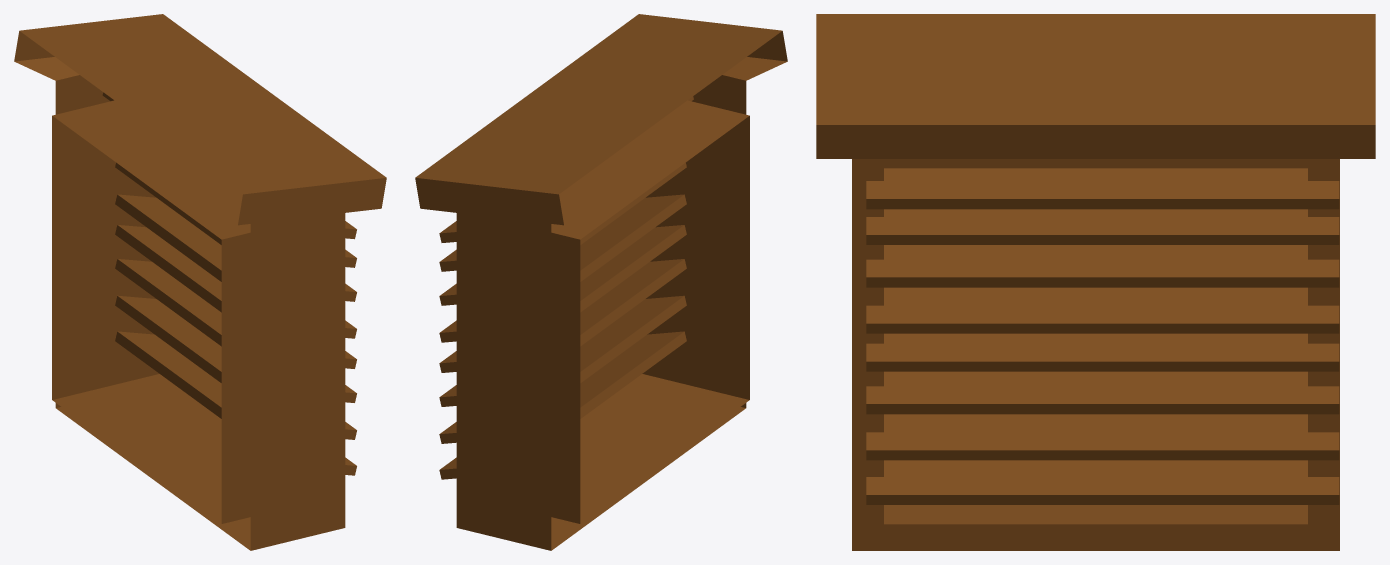
The model's file is saunaLight.fbx.
3 views of the same model, side by side, from view 1: azimuth 30°, elevation 25°; view 2: azimuth 150°, elevation 25°; view 3: azimuth 270°, elevation 25° (orthographic). The views are drawn at different scales.
Parts seen in each view (by area): view 1: saunaLamppu; view 2: saunaLamppu; view 3: saunaLamppu.
Boxes of the visible parts, x1,y1,x2,y2 form: saunaLamppu: (14,14,386,550); saunaLamppu: (415,14,787,550); saunaLamppu: (816,14,1375,550).
Bounding box in the file's own units: 22.05 × 52.67 × 57.35.
